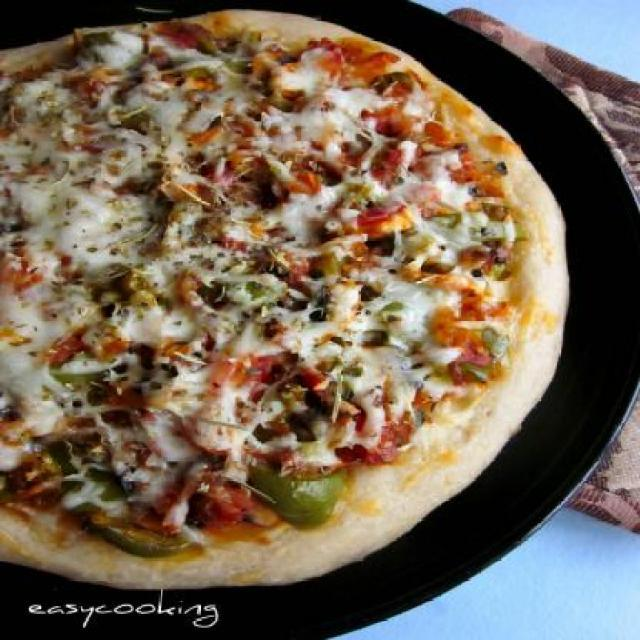Pizza: (0, 15, 594, 582)
